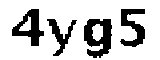4: (9, 6, 47, 49)
5: (117, 5, 151, 49)
g: (81, 15, 115, 60)
y: (47, 16, 78, 59)
